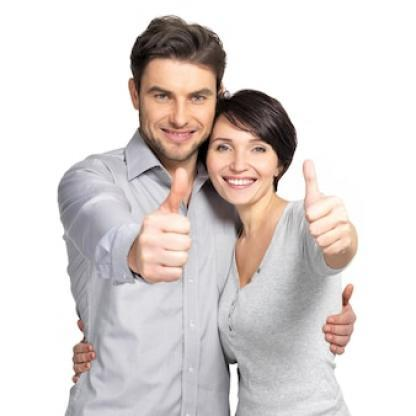thumb_up: (126, 160, 200, 288), (290, 152, 356, 260)
